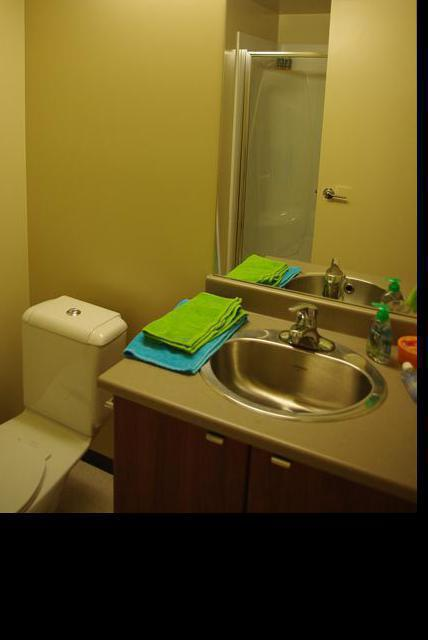Ducha: (223, 47, 412, 323)
Lavamanos: (194, 303, 393, 430)
Sanitario: (0, 292, 127, 512)
